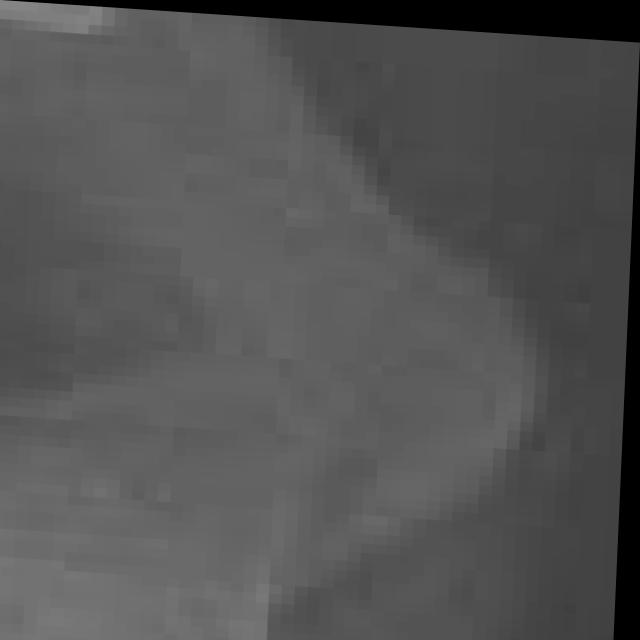fracture: (0, 32, 640, 640)
